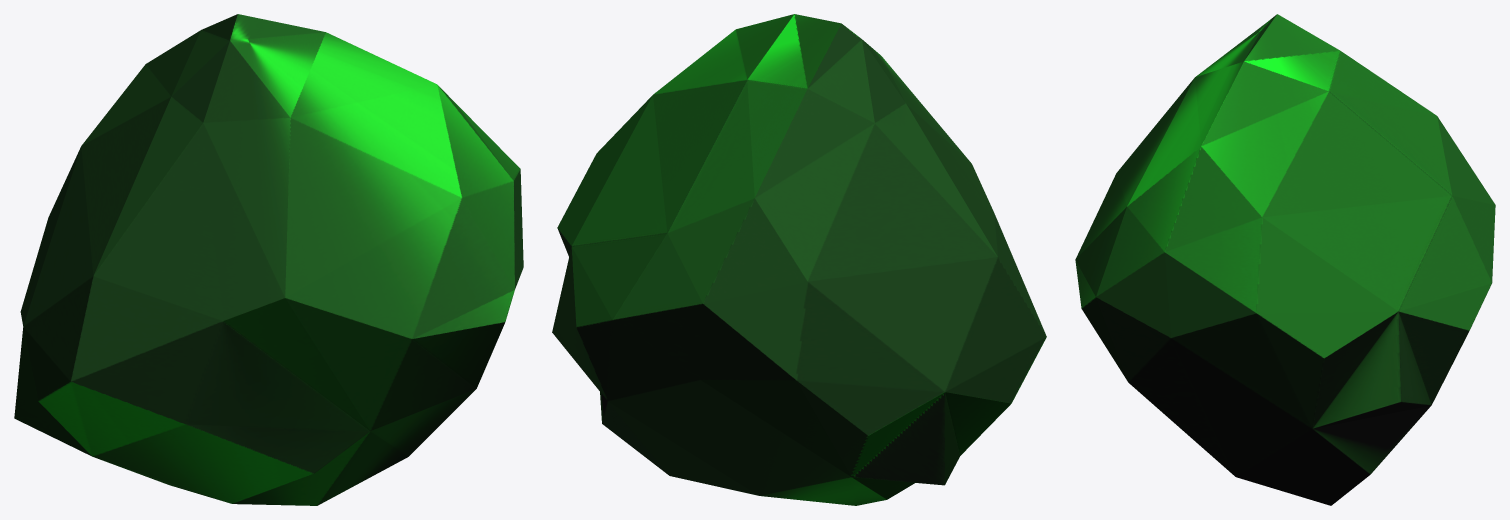
File: GreenRock.glb
3 views of the same model, side by side, from view 1: azimuth 30°, elevation 25°; view 2: azimuth 150°, elevation 25°; view 3: azimuth 270°, elevation 25° (orthographic). The views are drawn at different scales.
Parts seen in each view (by area): view 1: Cube; view 2: Cube; view 3: Cube.
Boxes of the visible parts, x1,y1,x2,y2 form: Cube: [14, 14, 523, 505]; Cube: [552, 14, 1046, 505]; Cube: [1075, 14, 1495, 505].
Bounding box in the file's own units: 0.6294 × 0.6363 × 0.5661.
Materials: 1 (1 with a texture image).
